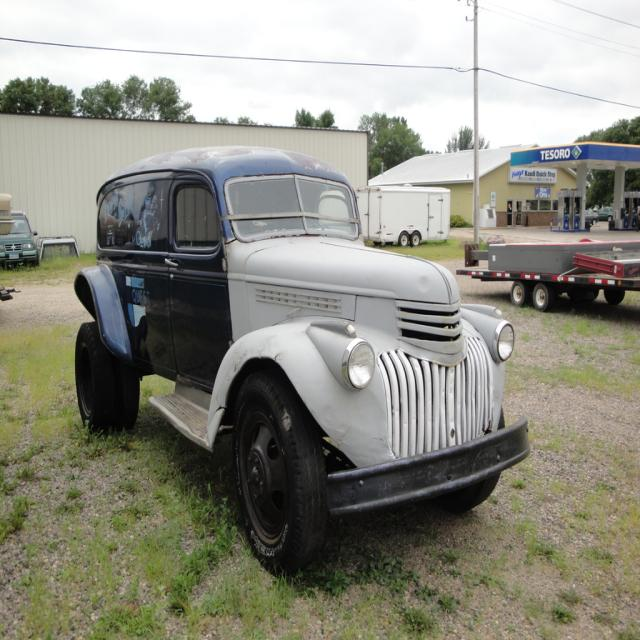car: (73, 146, 530, 574)
